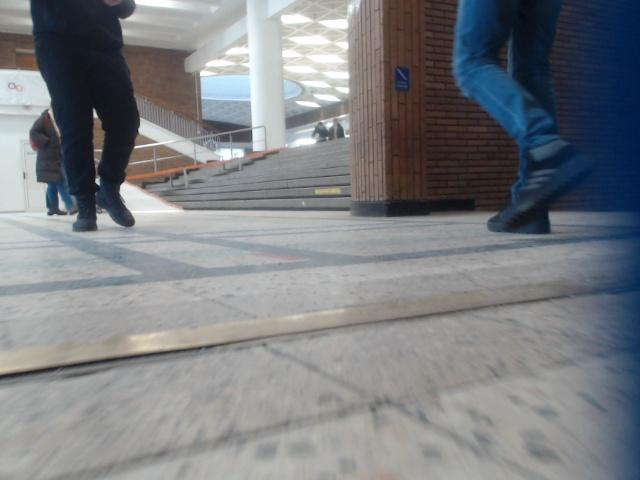rampUp: (121, 182, 181, 220)
ramps-railing: (135, 122, 267, 171)
